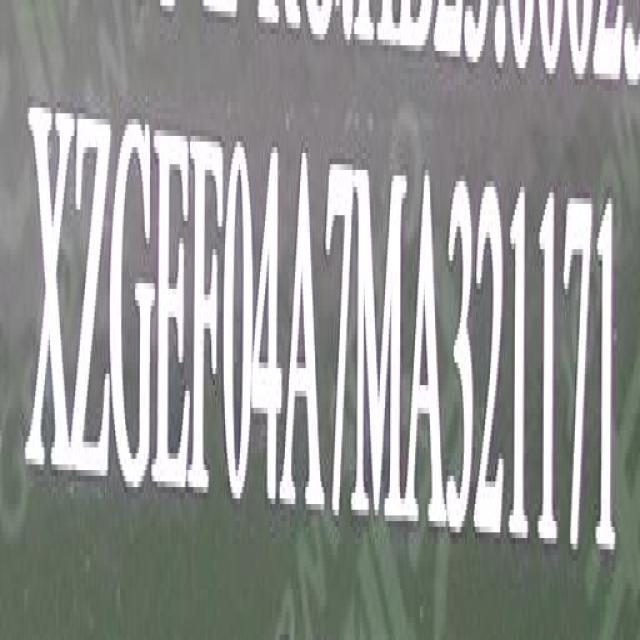0: (223, 134, 250, 514)
1: (534, 185, 561, 558), (598, 202, 622, 566), (511, 184, 528, 553)
2: (478, 178, 506, 552)
3: (446, 176, 477, 545)
4: (251, 136, 284, 516)
7: (324, 157, 356, 526), (562, 189, 592, 565)
A: (288, 148, 324, 522), (408, 171, 442, 535)
E: (156, 122, 190, 501)
F: (192, 124, 225, 509)
G: (108, 120, 154, 482)
M: (359, 159, 406, 532)
X: (33, 101, 73, 486)
Z: (73, 108, 112, 490)
